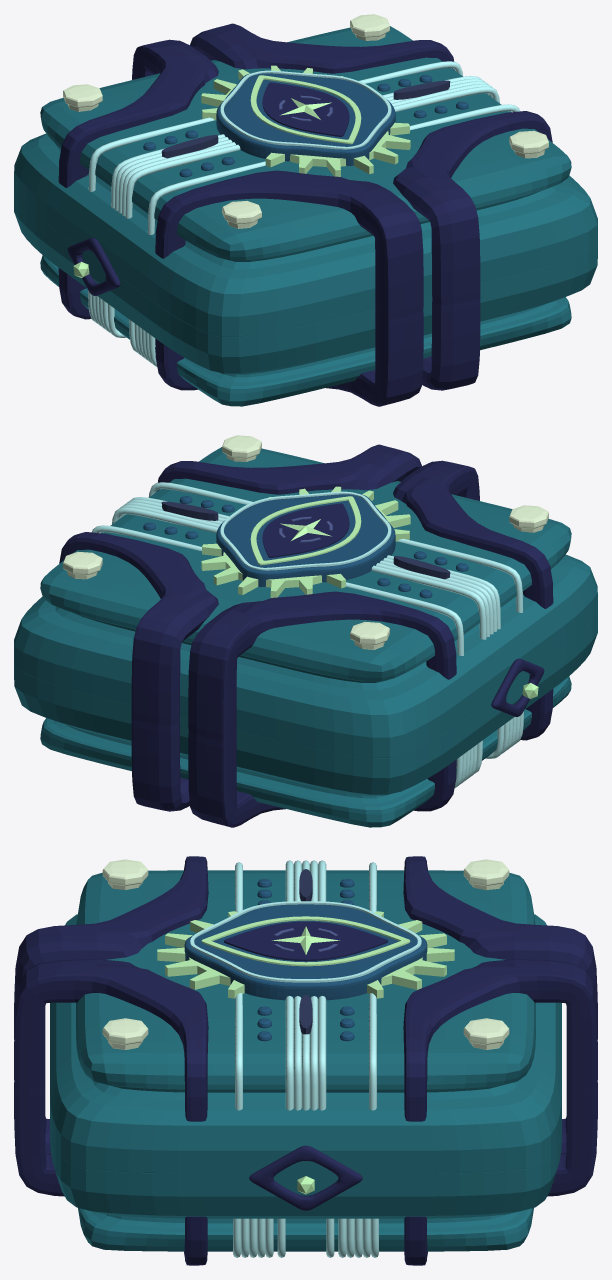
Rendered from st3_moving platform.fbx.
3 views of the same model, one above another, from view 1: azimuth 30°, elevation 25°; view 2: azimuth 150°, elevation 25°; view 3: azimuth 270°, elevation 25° (orthographic). The views are drawn at different scales.
Parts seen in each view (by area): view 1: 1_moving_platform_main, 1_moving_platform_etc_art6, 1_moving_platform_pipe1, 1_moving_platform_main_art1, 1_moving_platform_etc_art1, 1_moving_platform_gear1, 1_moving_platform_main_art4, 1_moving_platform_pipe2, 1_moving_platform_main_art2, 1_moving_platform_main_art3, 1_moving_platform_etc_art2, 1_moving_platform_etc_art4 (+1 smaller); view 2: 1_moving_platform_main, 1_moving_platform_etc_art6, 1_moving_platform_pipe1, 1_moving_platform_main_art1, 1_moving_platform_etc_art1, 1_moving_platform_gear1, 1_moving_platform_main_art4, 1_moving_platform_pipe2, 1_moving_platform_main_art2, 1_moving_platform_main_art3, 1_moving_platform_etc_art2, 1_moving_platform_etc_art4 (+1 smaller); view 3: 1_moving_platform_main, 1_moving_platform_etc_art6, 1_moving_platform_main_art1, 1_moving_platform_pipe1, 1_moving_platform_etc_art1, 1_moving_platform_gear1, 1_moving_platform_main_art4, 1_moving_platform_pipe2, 1_moving_platform_etc_art4, 1_moving_platform_main_art3, 1_moving_platform_main_art2, 1_moving_platform_etc_art3 (+1 smaller).
Part boxes in pixels (<box>): 1_moving_platform_main: <box>14,26,597,406</box>; 1_moving_platform_etc_art6: <box>58,23,552,406</box>; 1_moving_platform_pipe1: <box>88,61,519,234</box>; 1_moving_platform_main_art1: <box>216,72,395,165</box>; 1_moving_platform_etc_art1: <box>63,14,548,228</box>; 1_moving_platform_gear1: <box>201,65,410,176</box>; 1_moving_platform_main_art4: <box>262,82,349,136</box>; 1_moving_platform_pipe2: <box>88,290,157,366</box>; 1_moving_platform_main_art2: <box>220,70,391,149</box>; 1_moving_platform_main_art3: <box>250,75,361,144</box>; 1_moving_platform_etc_art2: <box>161,80,450,158</box>; 1_moving_platform_etc_art4: <box>67,237,120,295</box>; 1_moving_platform_main: <box>14,447,597,827</box>; 1_moving_platform_etc_art6: <box>59,444,553,827</box>; 1_moving_platform_pipe1: <box>92,482,523,655</box>; 1_moving_platform_main_art1: <box>216,493,395,586</box>; 1_moving_platform_etc_art1: <box>63,435,548,649</box>; 1_moving_platform_gear1: <box>201,486,410,597</box>; 1_moving_platform_main_art4: <box>262,503,349,557</box>; 1_moving_platform_pipe2: <box>454,711,523,787</box>; 1_moving_platform_main_art2: <box>220,491,391,570</box>; 1_moving_platform_main_art3: <box>250,496,361,565</box>; 1_moving_platform_etc_art2: <box>161,501,450,579</box>; 1_moving_platform_etc_art4: <box>491,658,544,716</box>; 1_moving_platform_main: <box>50,870,561,1251</box>; 1_moving_platform_etc_art6: <box>14,856,597,1265</box>; 1_moving_platform_main_art1: <box>184,904,427,1000</box>; 1_moving_platform_pipe1: <box>235,860,376,1110</box>; 1_moving_platform_etc_art1: <box>102,859,509,1049</box>; 1_moving_platform_gear1: <box>157,911,454,998</box>; 1_moving_platform_main_art4: <box>224,921,387,961</box>; 1_moving_platform_pipe2: <box>233,1218,378,1257</box>; 1_moving_platform_etc_art4: <box>249,1145,362,1210</box>; 1_moving_platform_main_art3: <box>201,916,410,966</box>; 1_moving_platform_main_art2: <box>190,901,421,982</box>; 1_moving_platform_etc_art3: <box>257,879,354,1041</box>.
Size of the model in its own units: 299 by 129 by 288.
